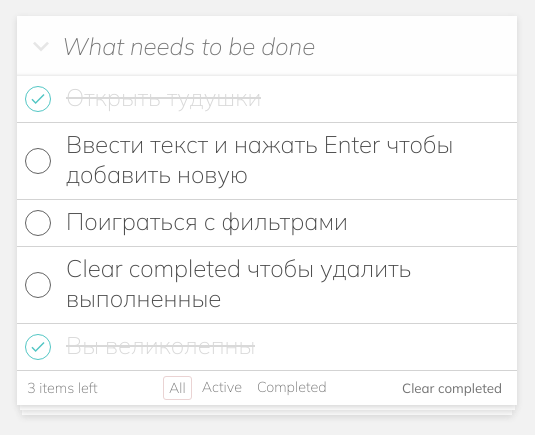
Todo app test › delete todo
Click the 2nd checkbox with class "checkbox". click: (38, 161)
box: [25, 148, 51, 174]
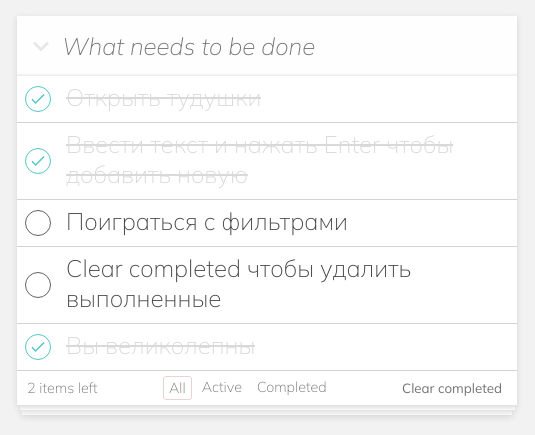
Click the checkbox with class "checkbox" next to "Поиграться с фильтрами". click: (38, 223)
box: [25, 210, 51, 236]
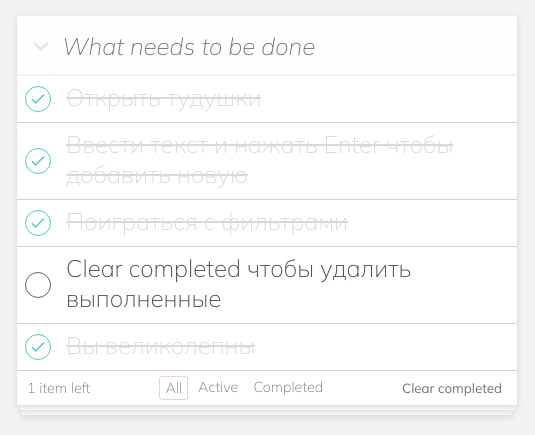
Click the button with class "clearButton". click: (452, 388)
box: [397, 378, 507, 398]
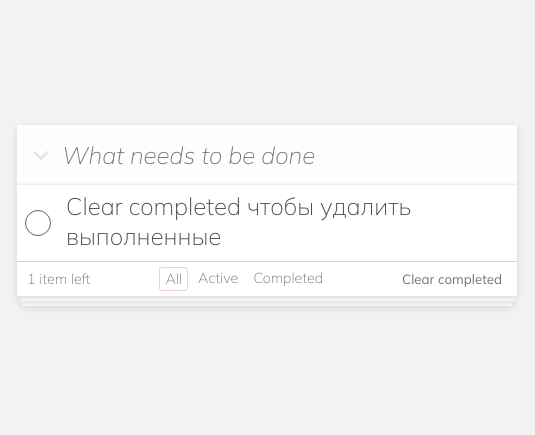
expect the number of list items with class "checkList--item" is 1: met, box [17, 185, 517, 262]
expect the text with class "checkList--item__label" reads "Clear completed чтобы удалить выполненные": met, box [66, 191, 411, 251]
